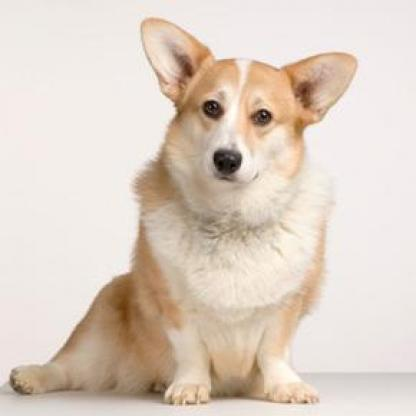Cardigan: (16, 7, 356, 405)
